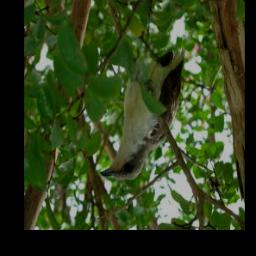Cuckoo: (102, 45, 186, 182)
